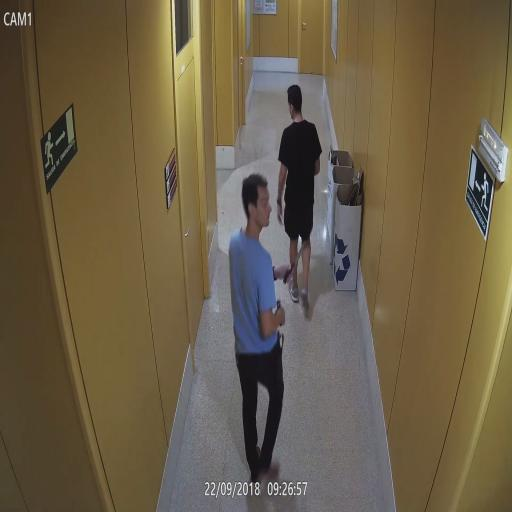Handgun: (274, 298, 286, 328)
